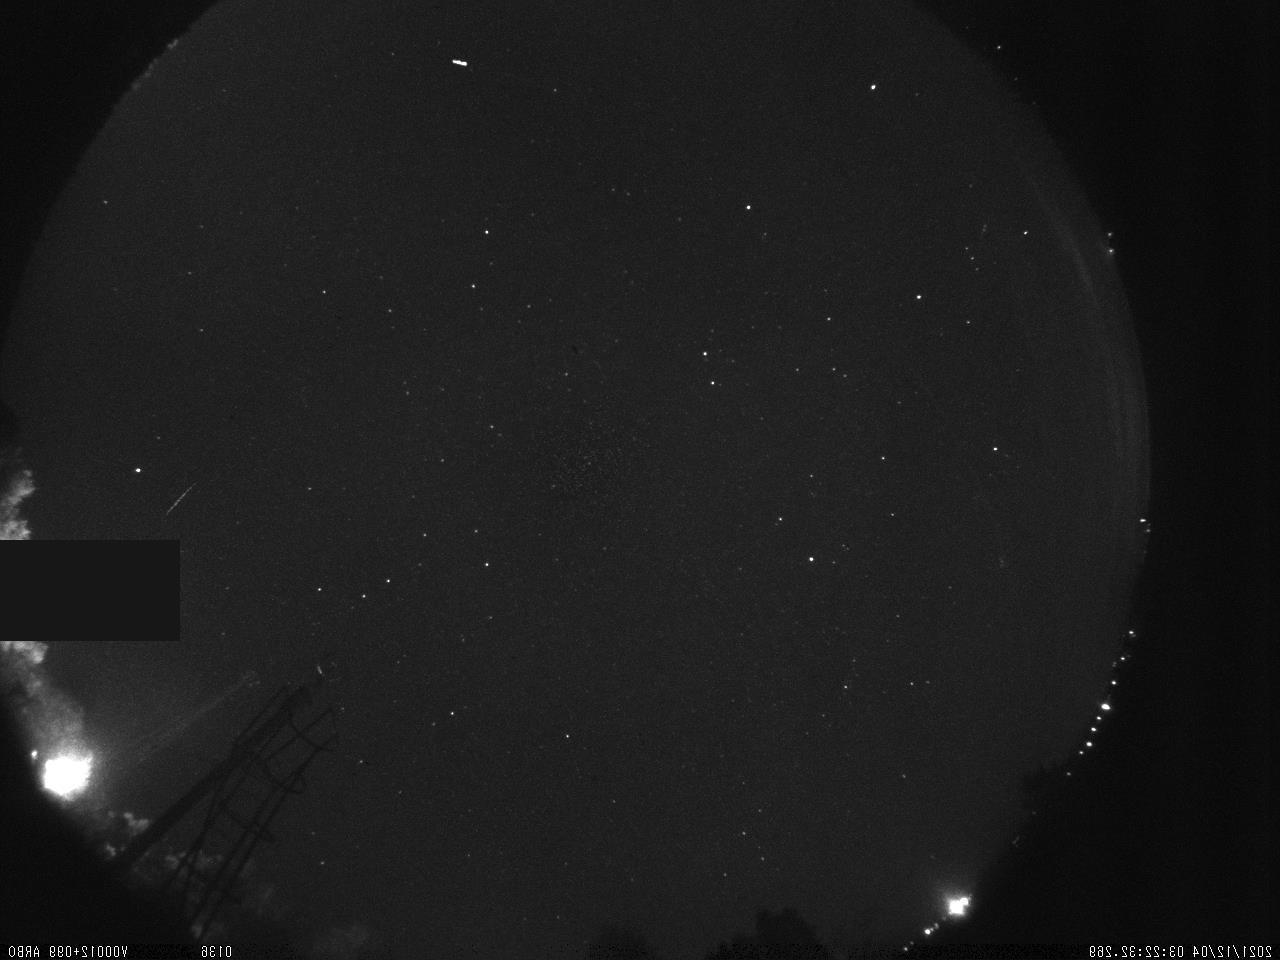meteor: (157, 471, 205, 527)
satelite: (444, 55, 473, 68)
